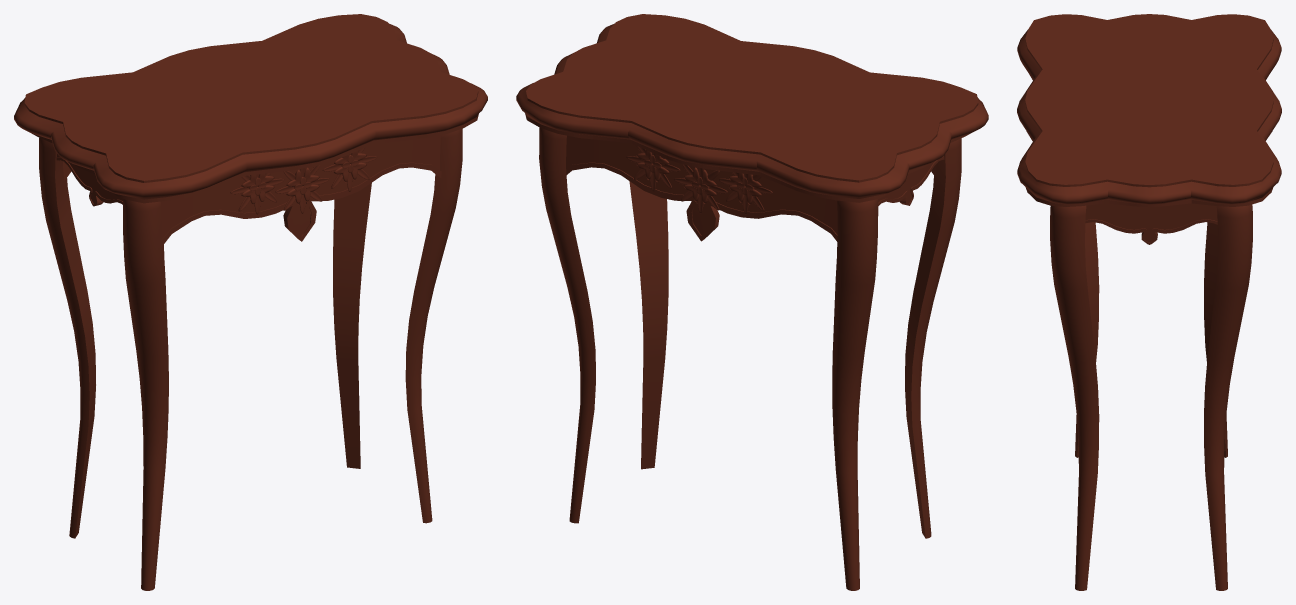
File: Mesh_Table.fbx
3 views of the same model, side by side, from view 1: azimuth 30°, elevation 25°; view 2: azimuth 150°, elevation 25°; view 3: azimuth 270°, elevation 25° (orthographic). The views are drawn at different scales.
Visible parts, largest first — view 1: Mesh_Long_Table; view 2: Mesh_Long_Table; view 3: Mesh_Long_Table.
Part boxes in pixels (box(x1,y1,x2,y2)): Mesh_Long_Table: box(14, 14, 487, 590); Mesh_Long_Table: box(516, 14, 988, 590); Mesh_Long_Table: box(1017, 14, 1281, 590).
Size of the model in its own units: 195 by 211 by 120.
